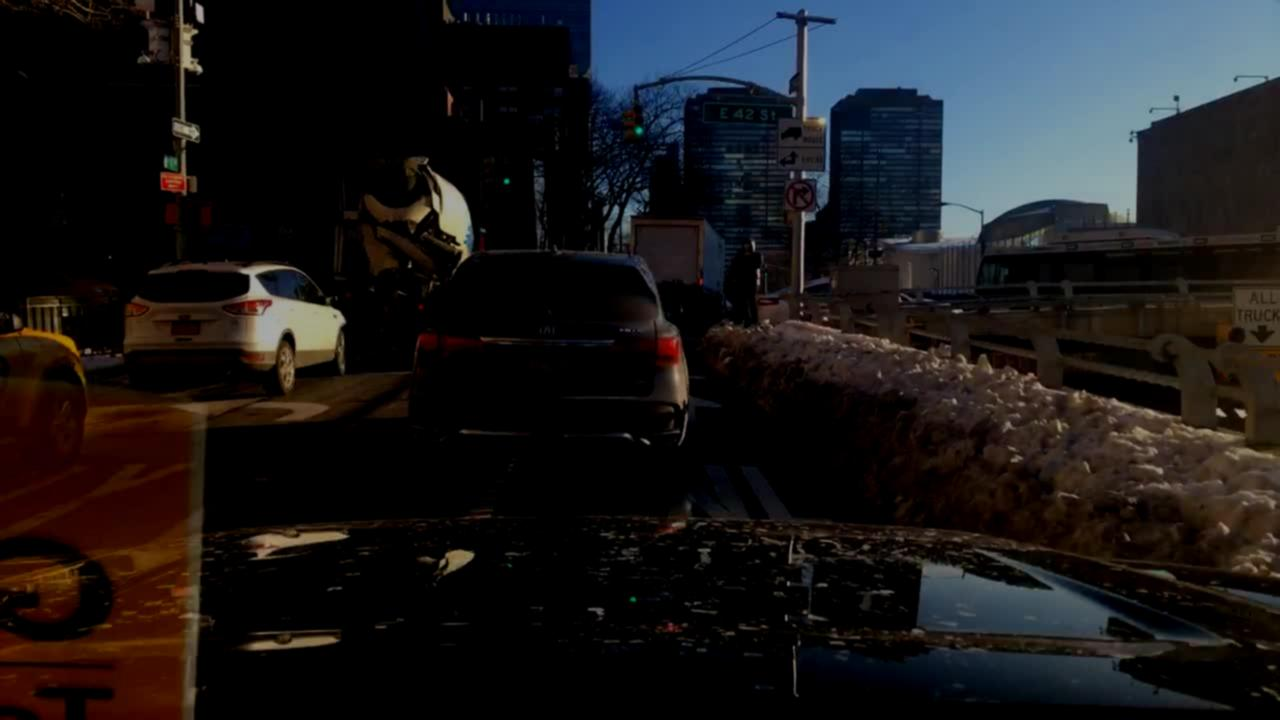acura: (536, 319, 559, 342)
